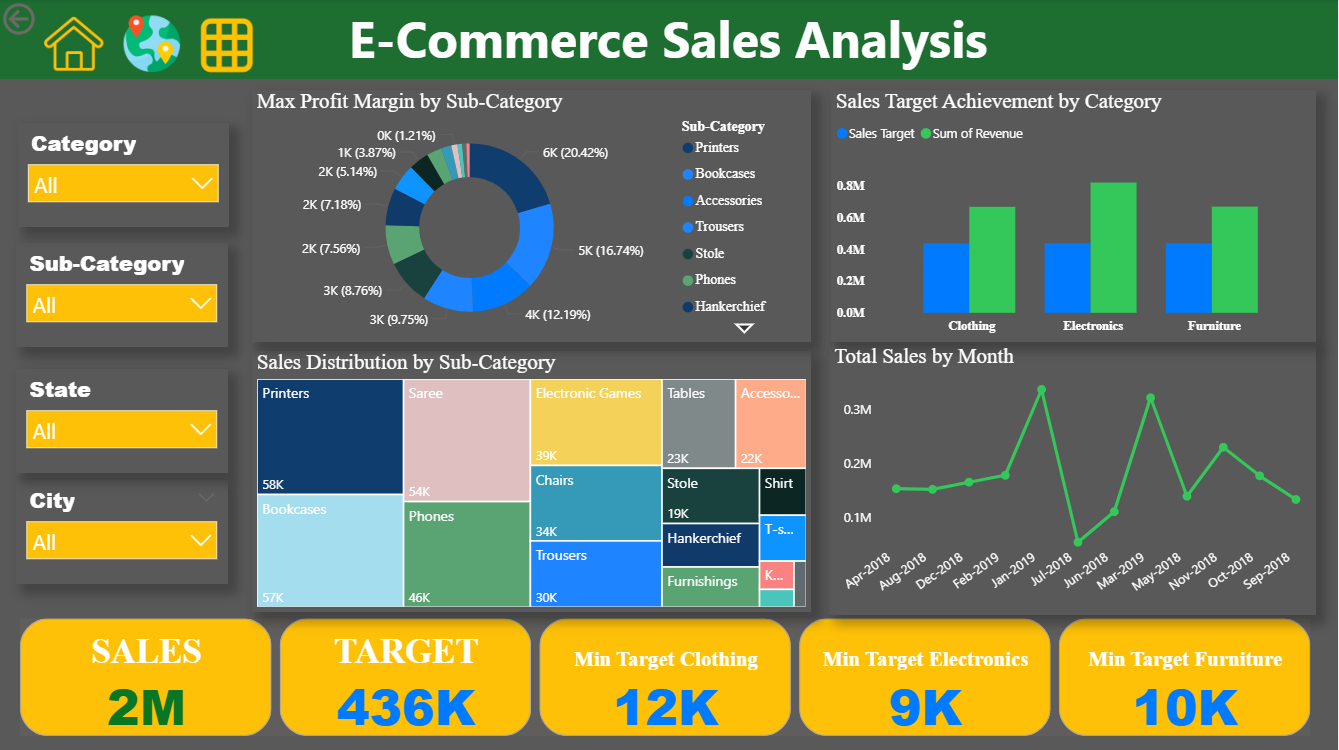

This screenshot's page, from the dashboard's own definition file:
{"tool":"powerbi","page":{"name":"Dashboard","canvas":[1280,720],"ordinal":0},"visuals":[{"type":"textbox","box":[0,0,1280,77.1],"z":0},{"type":"donutChart","title":"Max Profit Margin by Sub-Category","fields":{"Category":["Order Details.Sub-Category"],"Y":["List of Orders.Maximum_Profit_Margin"]},"box":[241.8,87.5,533.9,240.9],"z":0,"group":"g1"},{"type":"clusteredColumnChart","title":"Sales Target Achievement by Category","fields":{"Category":["Order Details.Category"],"Y":["List of Orders.Sales Target","Sum(Order Details.Total sales)"]},"box":[794.3,87.5,463.9,240.9],"z":1000,"group":"g1"},{"type":"slicer","fields":{"Values":["Order Details.Category"]},"box":[19.1,119.3,202,100],"z":1000},{"type":"slicer","fields":{"Values":["Order Details.Sub-Category"]},"box":[17.5,233.8,202,100],"z":2000},{"type":"treemap","title":"Sales Distribution by Sub-Category","fields":{"Group":["Order Details.Sub-Category"],"Values":["Sum(Order Details.Amount)"]},"box":[241.8,337.2,534.4,249.7],"z":2000,"group":"g1"},{"type":"lineChart","fields":{"Category":["List of Orders.Month"],"Y":["Order Details.Total Sales"]},"box":[793.7,330.9,464.5,257.7],"z":3000,"group":"g1"},{"type":"slicer","fields":{"Values":["List of Orders.State"]},"box":[17.5,353.1,202,100],"z":3000},{"type":"slicer","fields":{"Values":["List of Orders.City"]},"box":[17.5,459.7,202,100],"z":4000},{"type":"actionButton","box":[0,0,100,40],"z":5000},{"type":"cardVisual","fields":{"Data":["Sum(Order Details.Total sales)","List of Orders.Sales Target","List of Orders.Min Target Clothing","List of Orders.Min Target Electronics","Sales target.Min Target Furniture"]},"box":[15.9,586.9,1245.4,122.5],"z":6000},{"type":"image","box":[28.6,10,87.1,67.1],"z":9000},{"type":"image","box":[185.7,11.4,64.3,67.1],"z":10000},{"type":"image","box":[114.3,10,64.3,67.1],"z":11000},{"type":"group","id":"g1","title":"Group 1","box":[241.8,87.5,1016.4,501],"z":12000}]}

Visuals, with their boxes in screenshot pixels (x1, y1, x2, y2), scaled from the page's 1280x720 canvas onto the 1339x750 screenshot:
textbox: l=0, t=0, r=1338, b=80
"Max Profit Margin by Sub-Category" donutChart: l=253, t=91, r=811, b=342
"Sales Target Achievement by Category" clusteredColumnChart: l=831, t=91, r=1316, b=342
slicer - Order Details.Category: l=20, t=124, r=231, b=228
slicer - Order Details.Sub-Category: l=18, t=244, r=230, b=348
"Sales Distribution by Sub-Category" treemap: l=253, t=351, r=812, b=611
lineChart - List of Orders.Month x Order Details.Total Sales: l=830, t=345, r=1316, b=613
slicer - List of Orders.State: l=18, t=368, r=230, b=472
slicer - List of Orders.City: l=18, t=479, r=230, b=583
actionButton: l=0, t=0, r=105, b=42
cardVisual - Sum(Order Details.Total sales) x List of Orders.Sales Target: l=17, t=611, r=1319, b=739
image: l=30, t=10, r=121, b=80
image: l=194, t=12, r=262, b=82
image: l=120, t=10, r=187, b=80
"Group 1" group: l=253, t=91, r=1316, b=613
